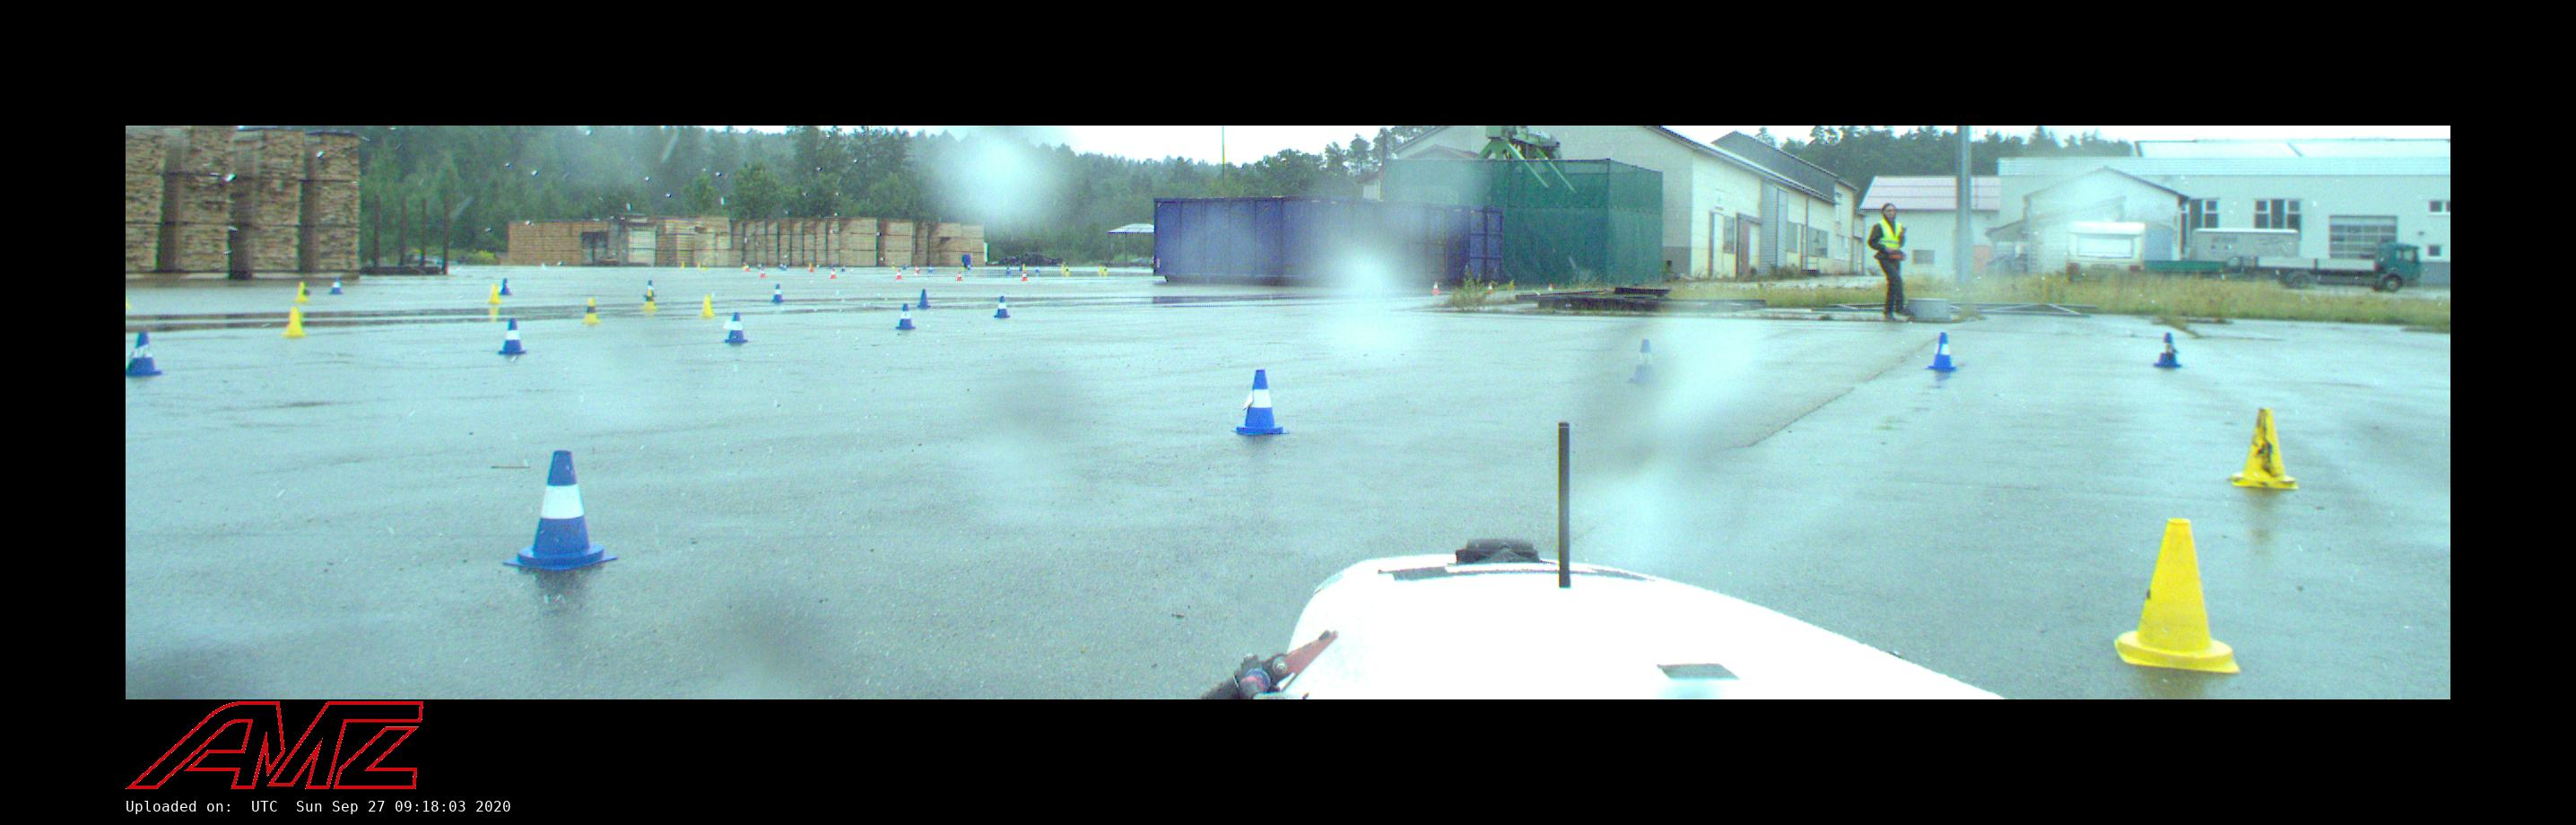blue_cone: (504, 452, 619, 572), (1232, 371, 1290, 434), (125, 334, 163, 376), (1628, 340, 1661, 386), (1927, 332, 1957, 371), (499, 320, 529, 355), (2154, 332, 2180, 368), (724, 312, 748, 342), (895, 306, 915, 329), (994, 297, 1010, 317), (644, 279, 657, 297), (918, 289, 930, 309), (772, 286, 785, 302), (501, 278, 513, 296), (330, 278, 342, 294), (1005, 266, 1010, 274), (1037, 266, 1040, 273)
orange_cone: (1431, 281, 1441, 296), (830, 270, 838, 279), (1022, 271, 1028, 281), (956, 271, 963, 281), (895, 270, 902, 279), (1485, 281, 1492, 291), (1548, 283, 1554, 293), (761, 268, 766, 278), (746, 263, 751, 271), (810, 263, 815, 271)
yellow_cone: (2111, 519, 2238, 675), (2231, 406, 2300, 491), (284, 309, 306, 337), (582, 297, 600, 324), (700, 296, 716, 317), (642, 291, 655, 309), (490, 284, 503, 302), (296, 283, 307, 301), (701, 263, 706, 270), (1104, 266, 1107, 274), (1066, 266, 1069, 274), (1099, 266, 1102, 271)
